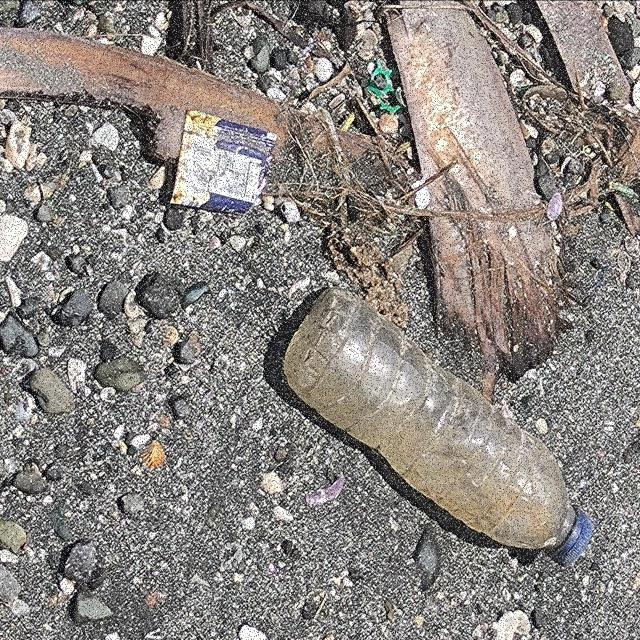plastic_waste: (283, 285, 593, 568), (172, 108, 280, 217)
